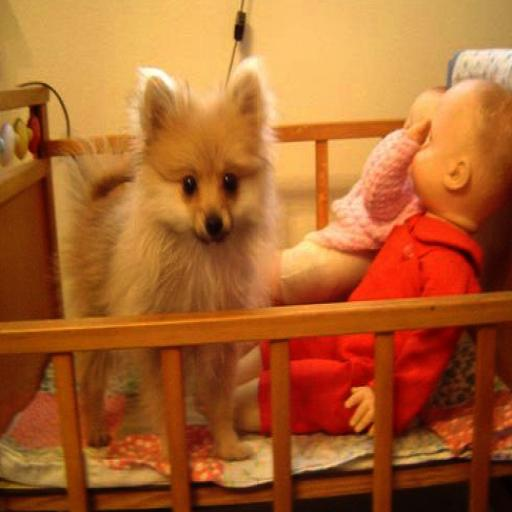dog_face: (138, 66, 272, 245)
